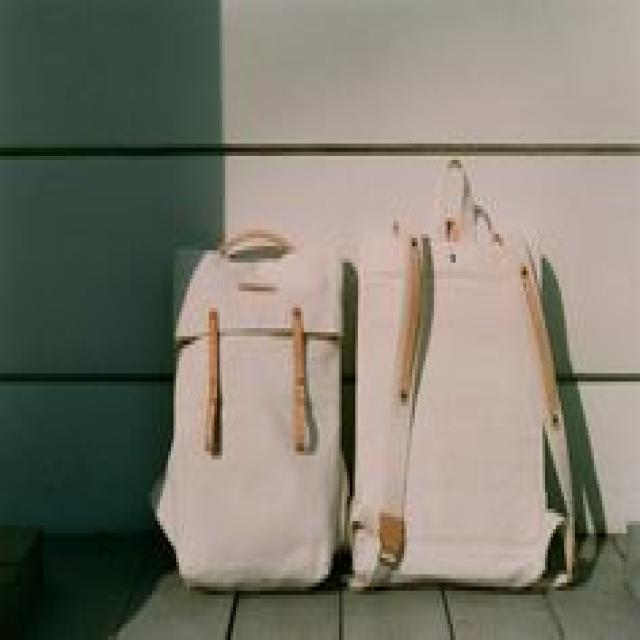backpack: (345, 158, 588, 587), (159, 213, 346, 598)
